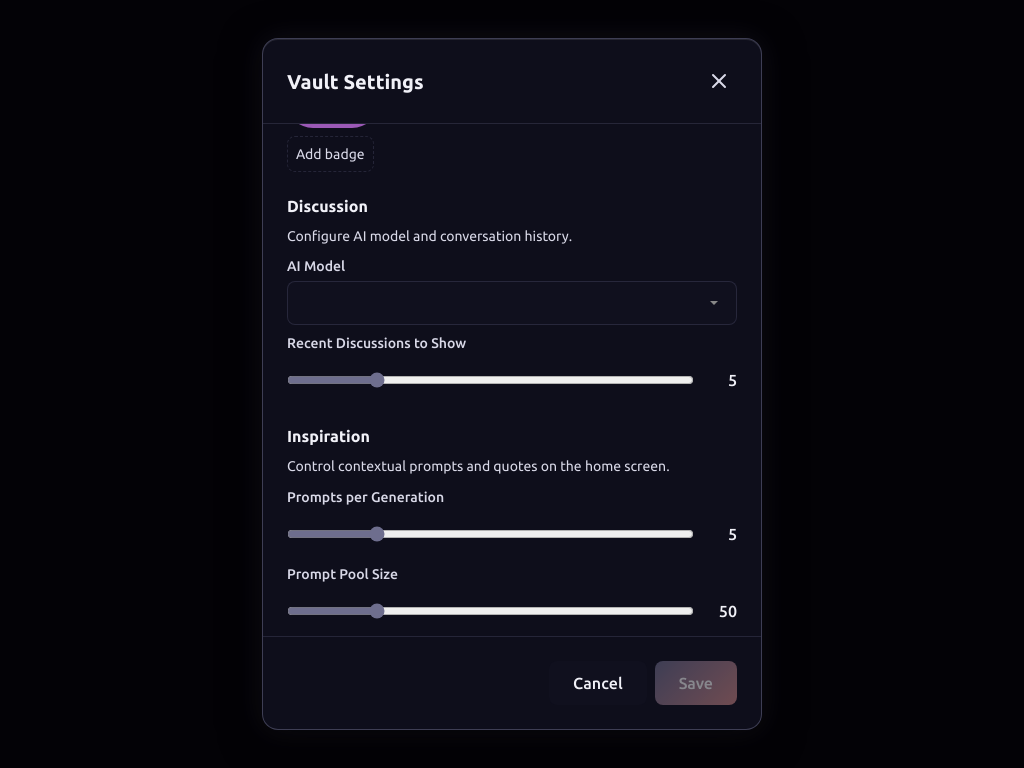
Scenario: ConfigEditorDialog › slider interactions › recentDiscussions slider value display updates when slider is moved
The width and height of the screenshot is (1024, 768).
(page scrolled)
Set the slider labelled "Recent Discussions to Show" to "12". click: [521, 380]
box: [287,358,694,402]
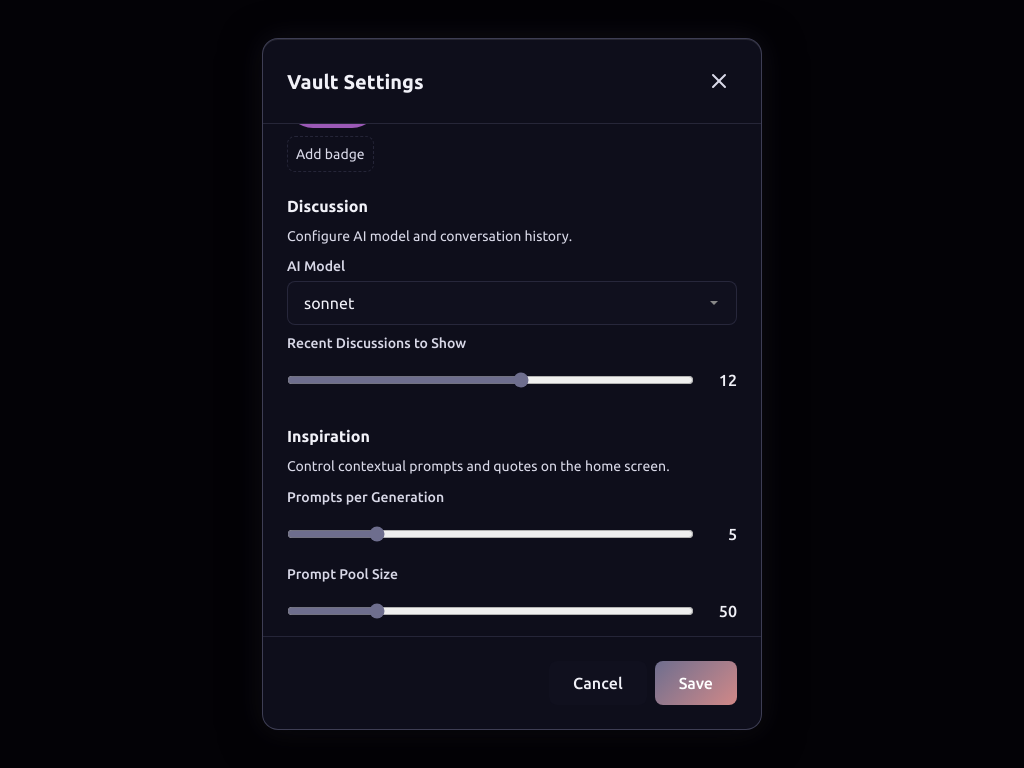
Now the text with class "config-editor__slider-value" reads "12", box [719,371,737,389]
